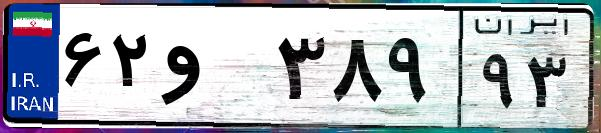2: (110, 28, 158, 98)
3: (270, 28, 330, 110), (525, 38, 570, 115)
6: (57, 26, 110, 100)
8: (330, 28, 385, 110)
9: (385, 28, 445, 110), (475, 38, 525, 113)
و: (158, 20, 270, 120)
